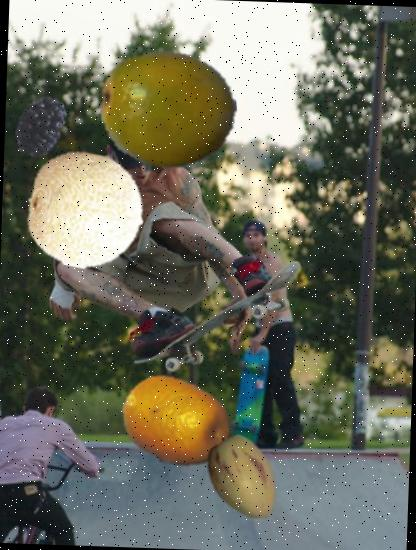Cantaloupe: (25, 148, 147, 270)
Kumquats: (119, 364, 234, 479)
Maracuja: (98, 40, 239, 181)
Mulberry: (8, 93, 73, 158)
Pepino: (197, 432, 292, 527)
